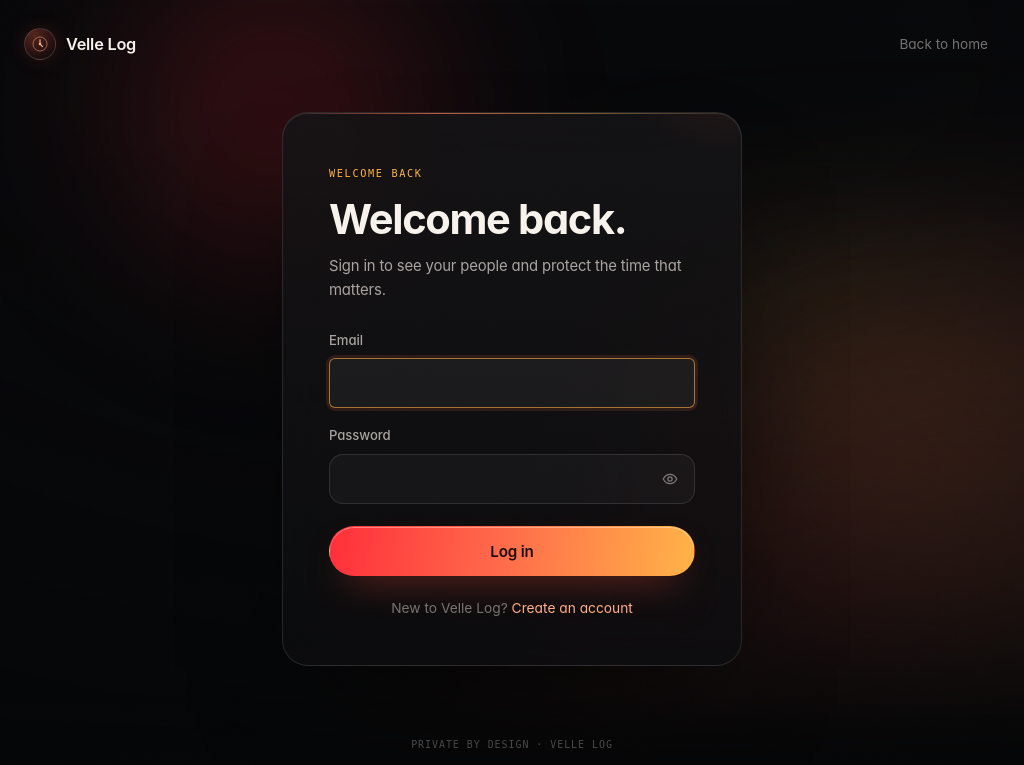
Test: LoginPage › rejects malformed email addresses
Check: the heading "Welcome back." is shown, box 329,194 -> 626,244
Step 1. Type "alex@" into the field labelled "Email" → (512, 383), box 329,358 -> 695,408
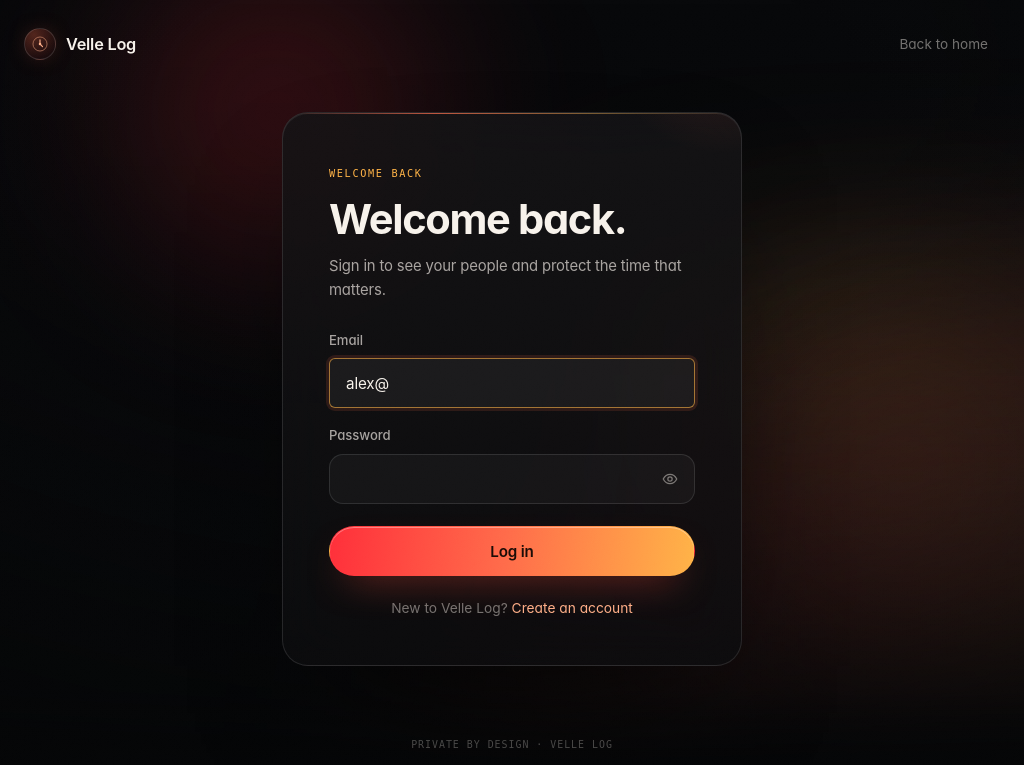
Step 2. Type "s3cure-passphrase" into the password field labelled "Password" → (512, 479), box 329,454 -> 695,504
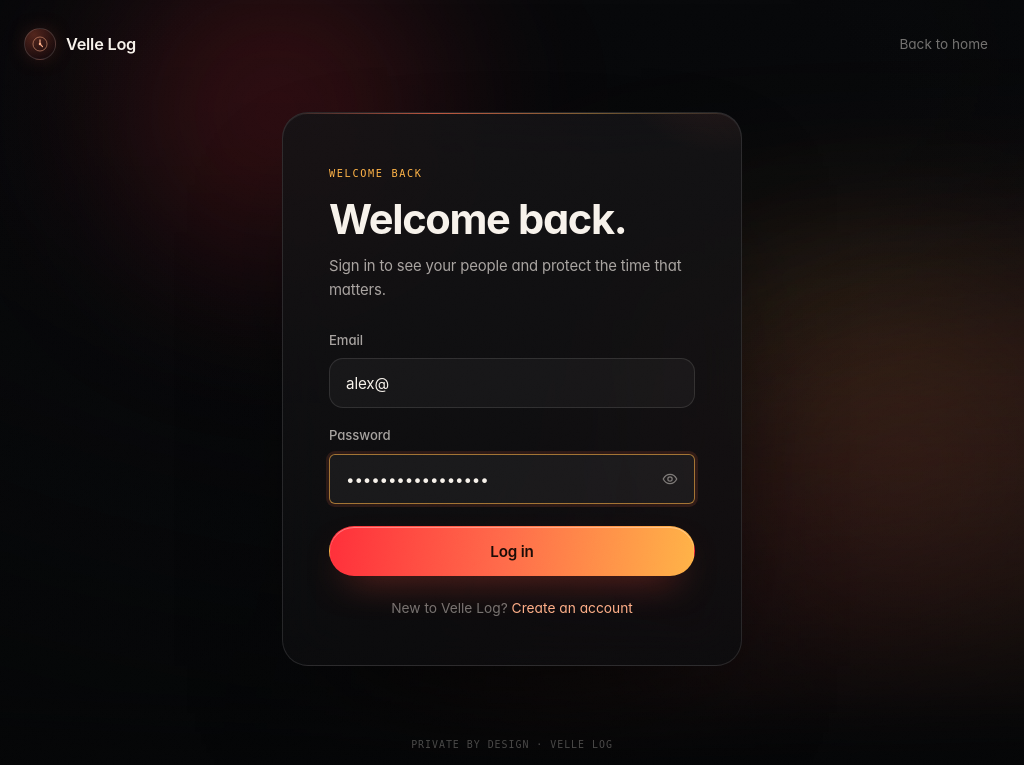
Step 3. Click the button "Log in" → click(512, 551), box 329,526 -> 695,576
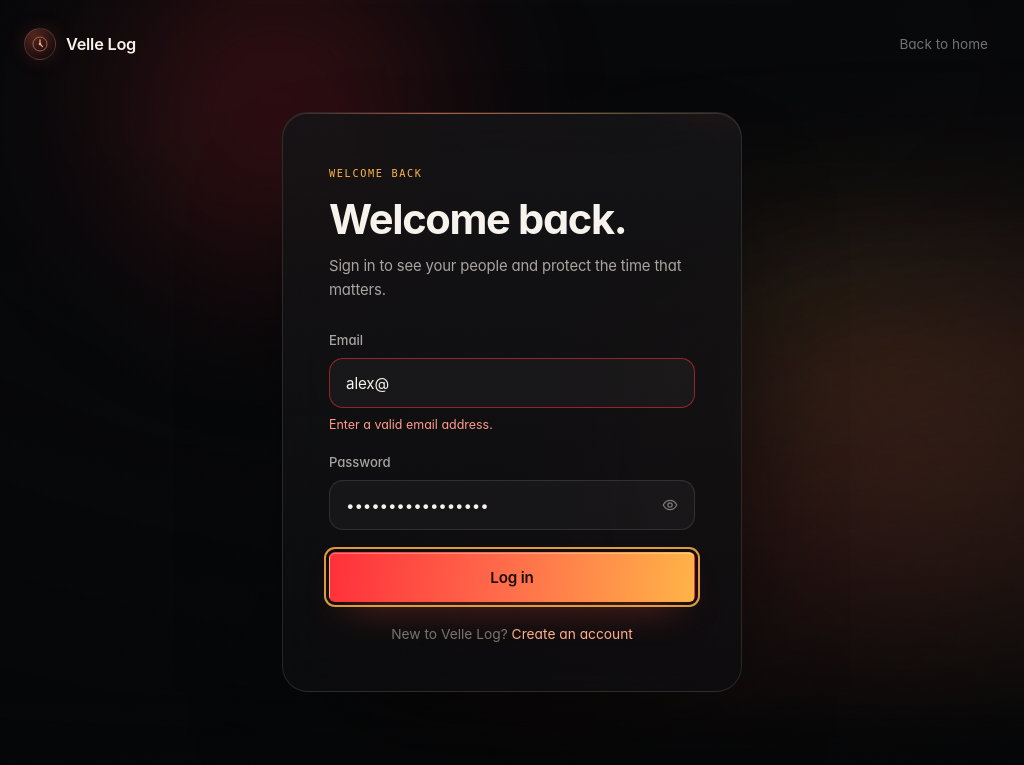
Check: the text "Enter a valid email address." is shown, box 329,417 -> 493,432
